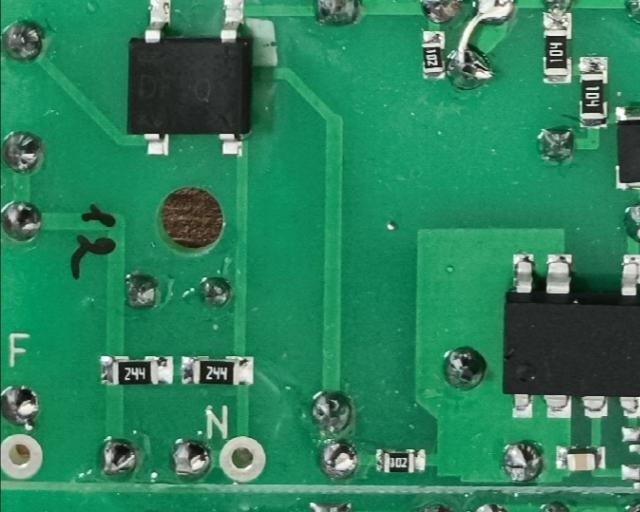chip-capacitor: (553, 444, 607, 471)
chip-resistor: (179, 351, 257, 387), (96, 354, 175, 388), (576, 53, 609, 132), (540, 11, 572, 85), (371, 446, 426, 475), (418, 27, 446, 80)
diode: (612, 104, 640, 192)
ic: (500, 251, 640, 421), (122, 0, 253, 162)
